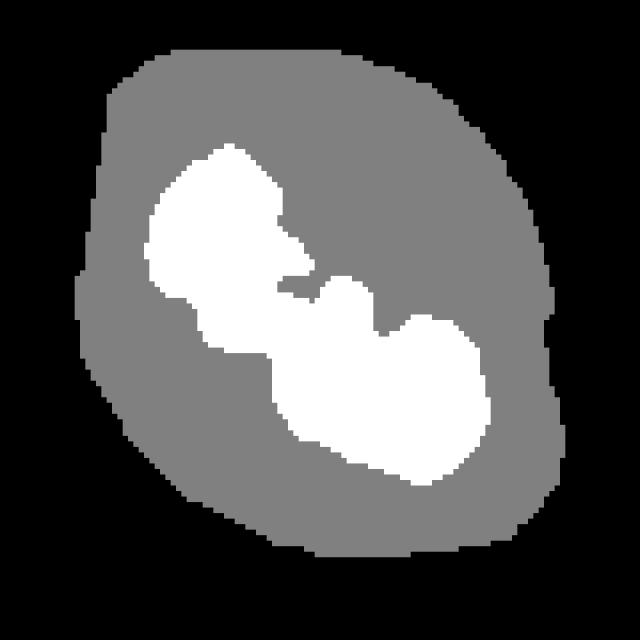WBC: (69, 33, 592, 563)
